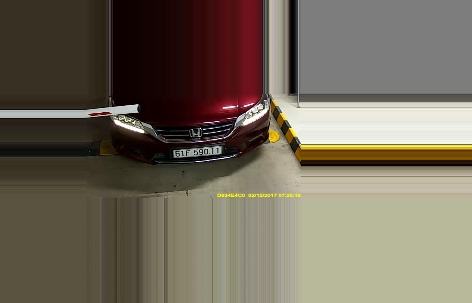plate: (170, 145, 224, 157)
